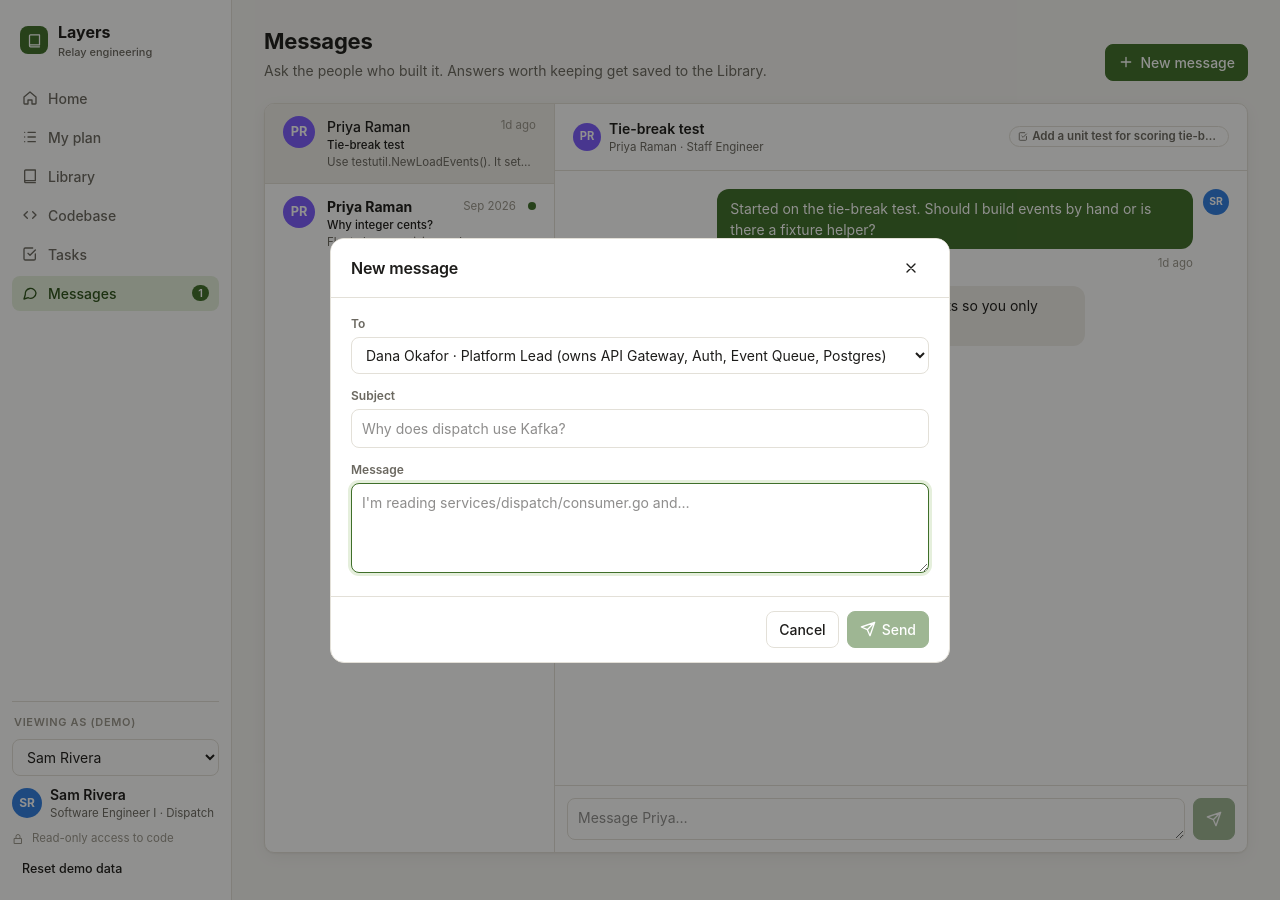
Test: Messages › ?to= sends to that person and lands on the new thread
The image size is (1280, 900).
Type "Quick question" into the text box labelled "Message".
click(640, 528); type("Quick question")  # box x1=351 y1=482 x2=929 y2=572
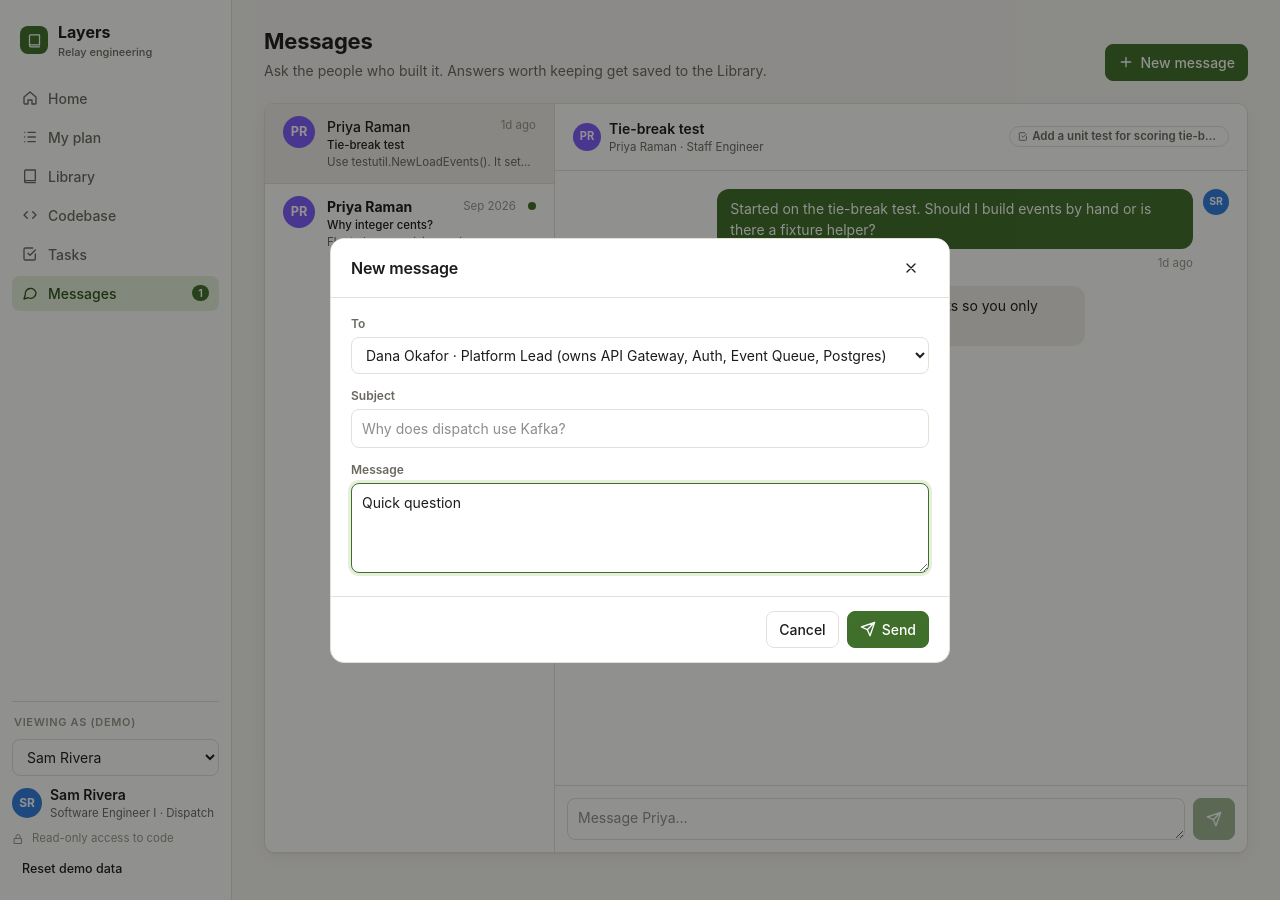
Click the button "Send".
click(888, 629)  # box x1=847 y1=610 x2=929 y2=648
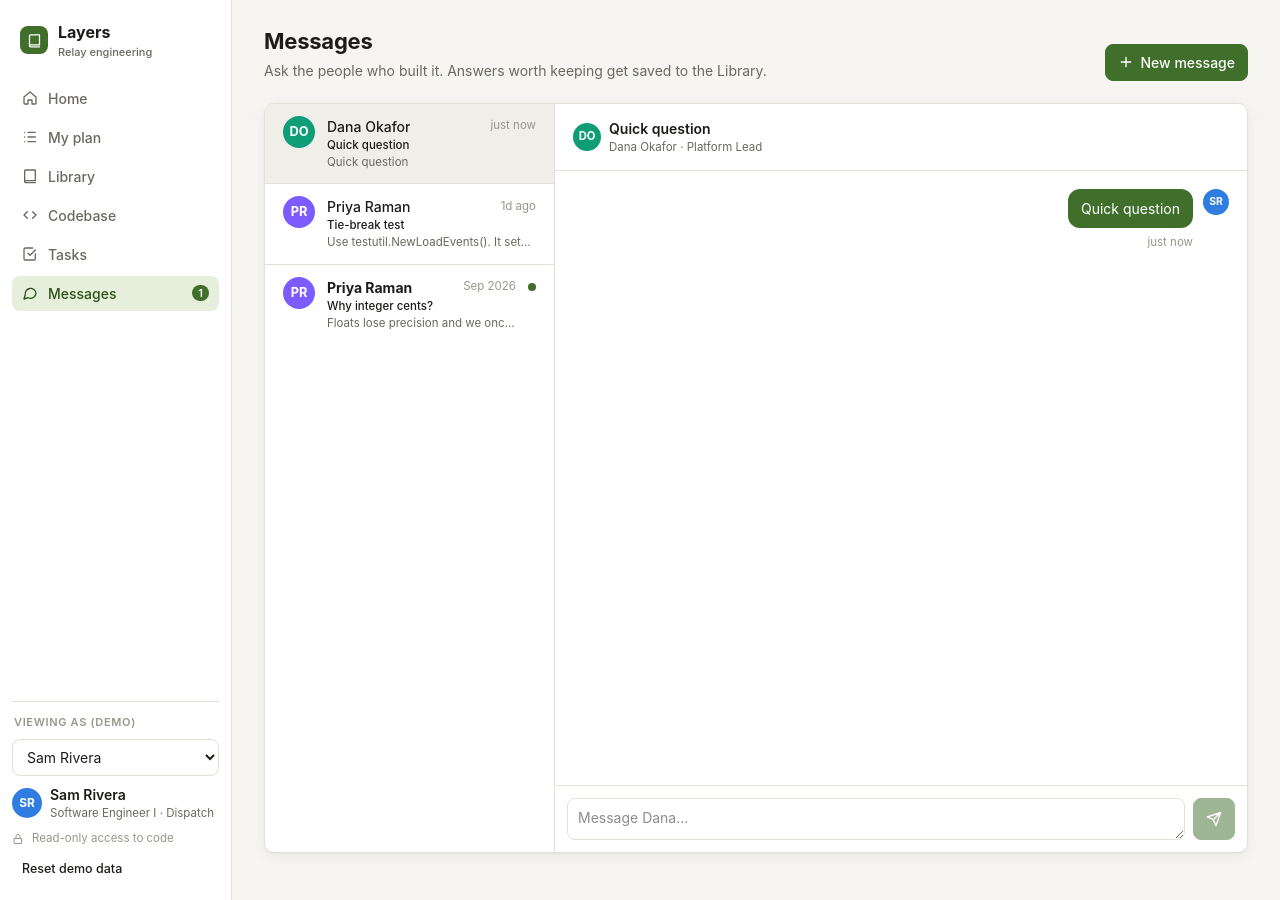
expect the dialog is gone: met
